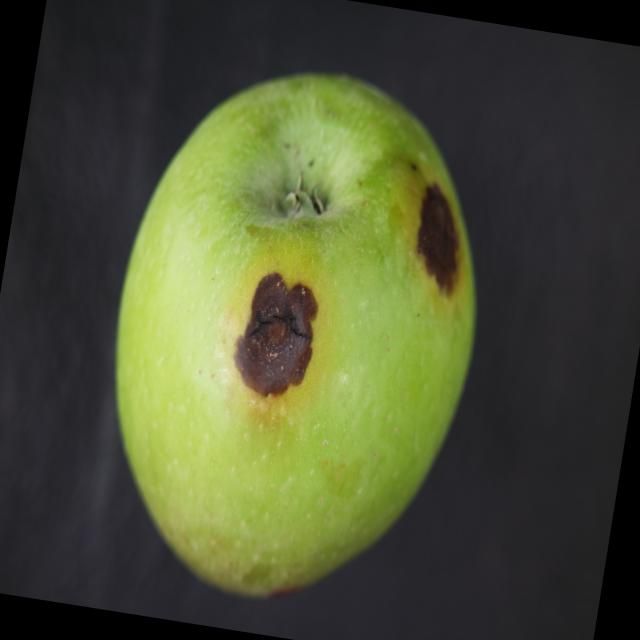rotten: (66, 26, 526, 640)
